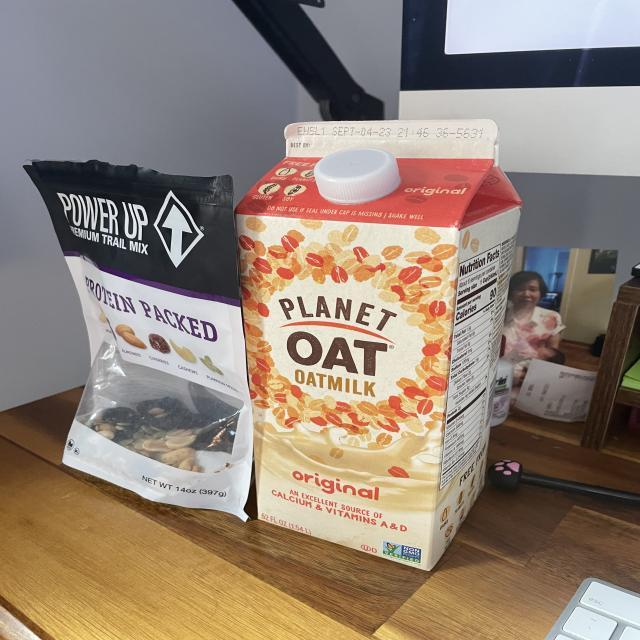Planet Oat Original: (230, 114, 526, 576)
